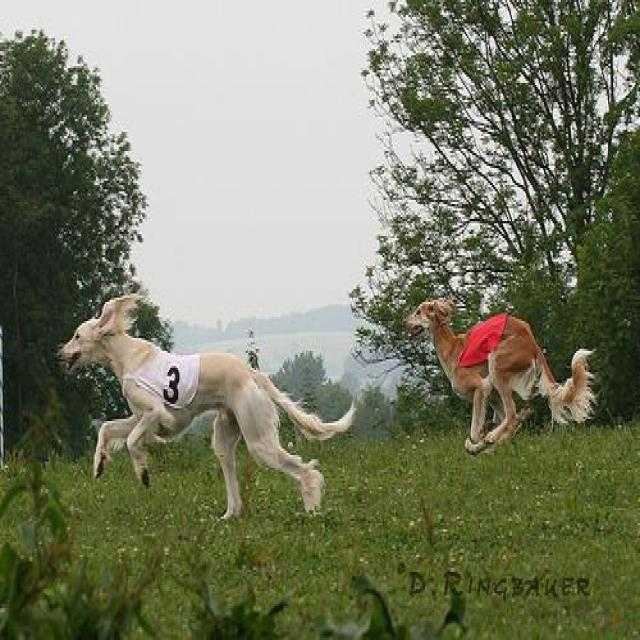saluki: (55, 289, 356, 521), (399, 296, 594, 459)
